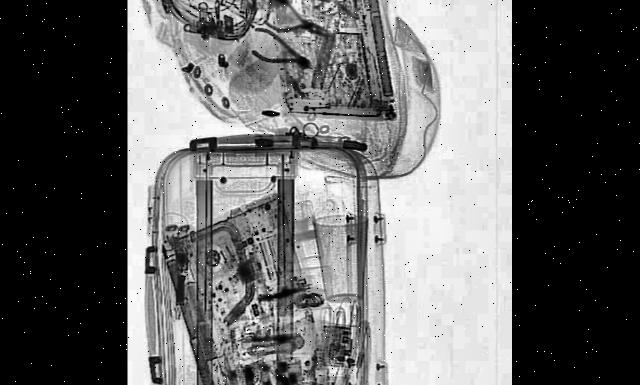Pliers: (252, 21, 314, 80), (264, 0, 329, 51), (255, 0, 333, 15)
